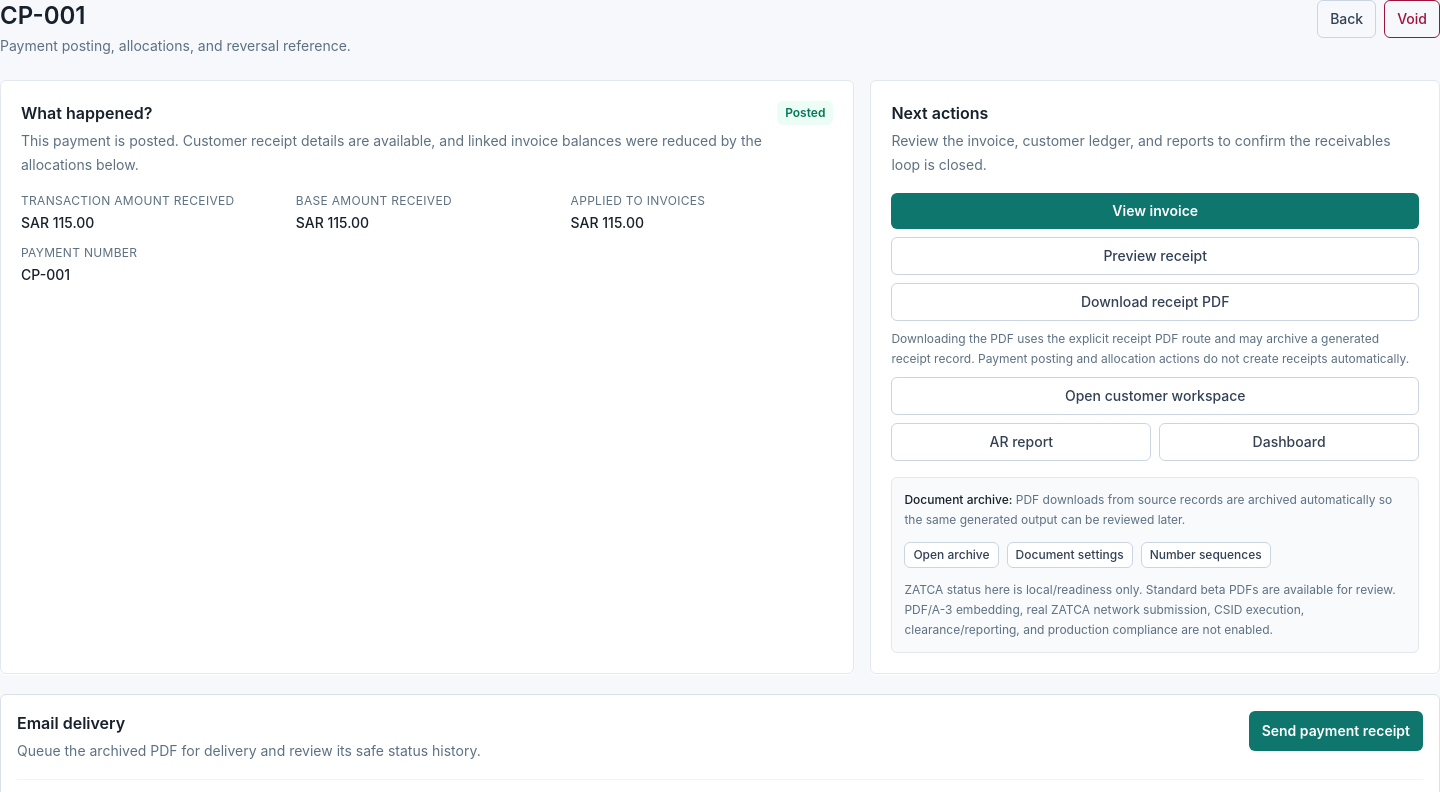
customer payment workflow guidance › previews and downloads customer payment receipts only through explicit actions
The image size is (1440, 792).
Step 1. Click the button "Preview receipt" → (1155, 256), box x1=891 y1=237 x2=1419 y2=275
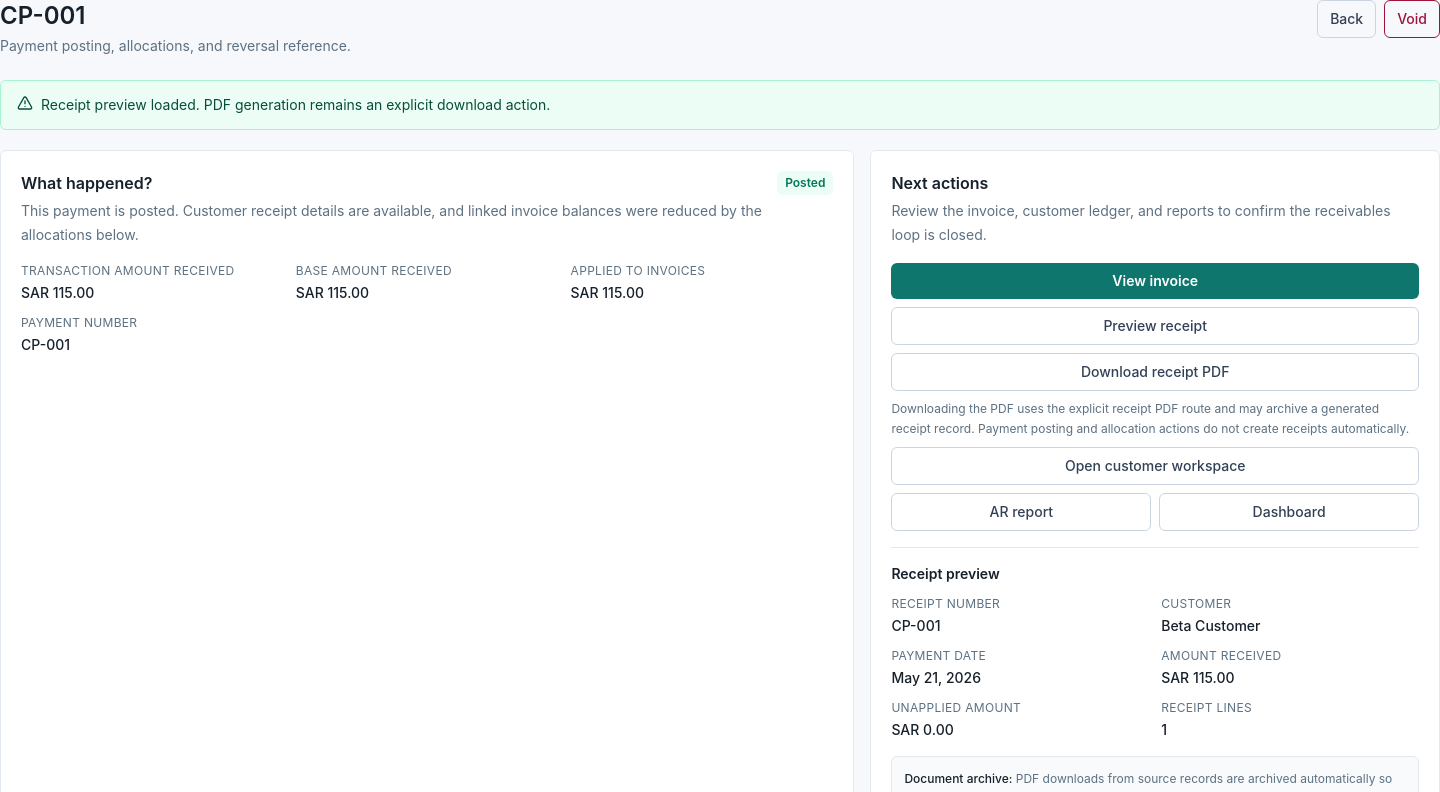
Expected: the heading "Receipt preview" is shown, x1=891 y1=565 x2=1000 y2=582
Expected: the text "Beta Customer" is shown, x1=1161 y1=617 x2=1260 y2=634
Expected: the text "Receipt preview loaded. PDF generation remains an explicit download action." is shown, x1=41 y1=93 x2=550 y2=117
Step 2. Click the button "Download receipt PDF" → (1155, 372), box x1=891 y1=353 x2=1419 y2=391
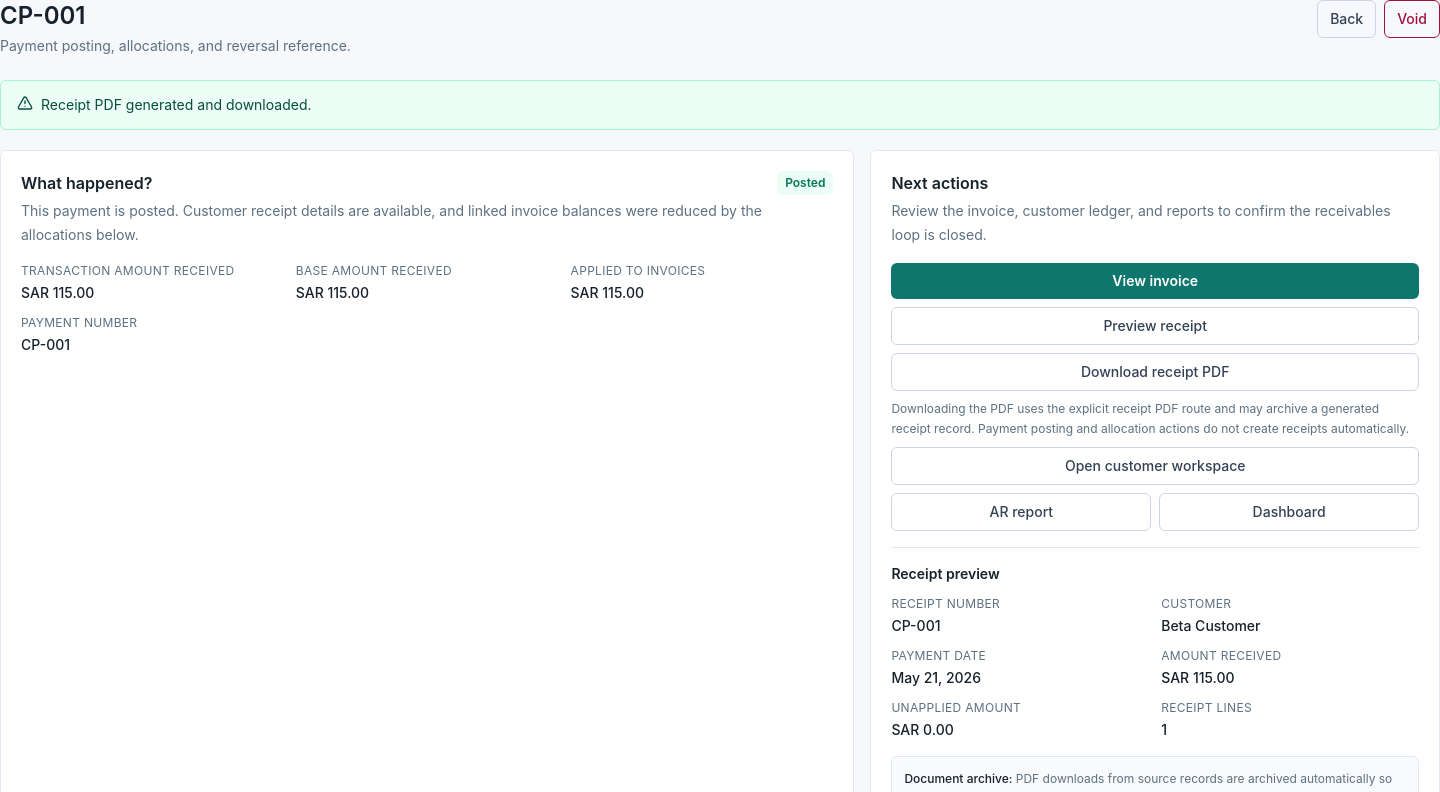
Expected: the text "Receipt PDF generated and downloaded." is shown, x1=41 y1=93 x2=312 y2=117
